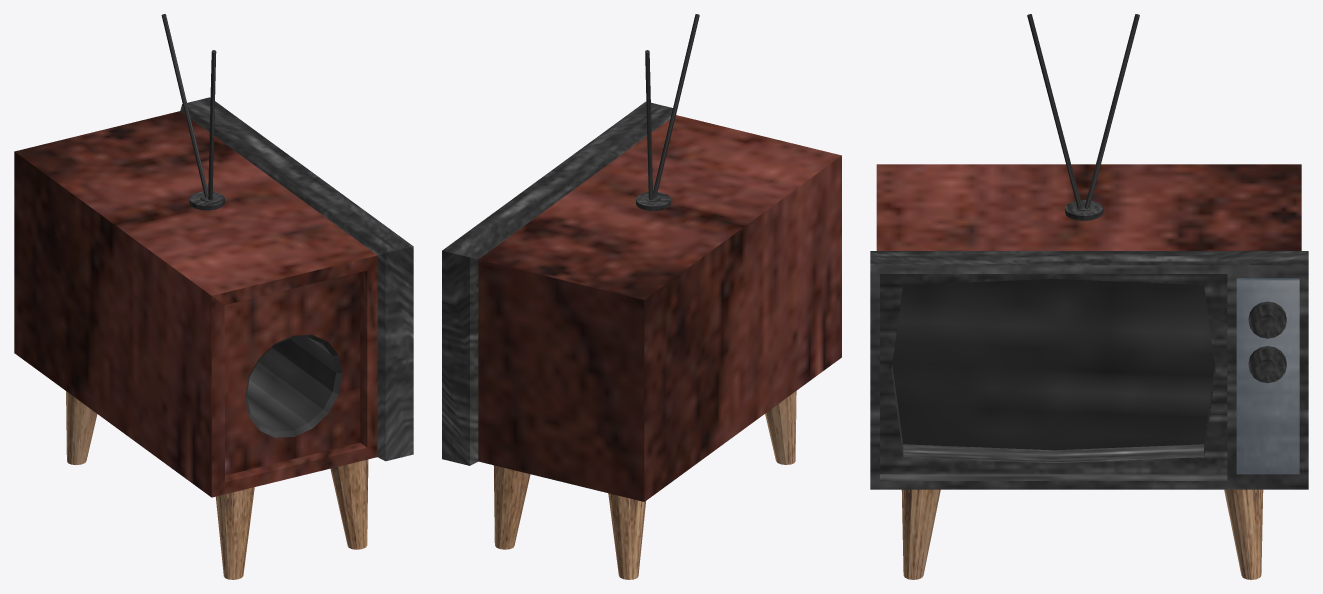
File: PDH_TV.fbx
The picture shows the model from 3 angles, left to right: view 1: azimuth 30°, elevation 25°; view 2: azimuth 150°, elevation 25°; view 3: azimuth 270°, elevation 25°; orthographic projection. The views are drawn at different scales.
Visible parts, largest first — view 1: Cube, Cylinder.006, Cylinder.005, Cylinder.004; view 2: Cube, Cylinder.006, Cylinder.005, Cylinder.004; view 3: Cube, Cube.001, Cylinder.006, Cylinder.005, Cylinder.003, Cylinder.002, Cylinder.004.
Boxes of the visible parts, bbox=[...] form: Cube: bbox=[14, 97, 413, 497]; Cylinder.006: bbox=[66, 391, 368, 579]; Cylinder.005: bbox=[161, 14, 216, 199]; Cylinder.004: bbox=[189, 191, 224, 210]; Cube: bbox=[442, 101, 841, 501]; Cylinder.006: bbox=[493, 391, 796, 579]; Cylinder.005: bbox=[645, 14, 699, 199]; Cylinder.004: bbox=[636, 192, 670, 210]; Cube: bbox=[870, 164, 1308, 489]; Cube.001: bbox=[1236, 278, 1299, 474]; Cylinder.006: bbox=[901, 489, 1263, 579]; Cylinder.005: bbox=[1027, 14, 1139, 208]; Cylinder.003: bbox=[1248, 346, 1286, 383]; Cylinder.002: bbox=[1248, 301, 1286, 338]; Cylinder.004: bbox=[1065, 200, 1103, 220].
Size of the model in its own units: 380 by 643 by 832.
